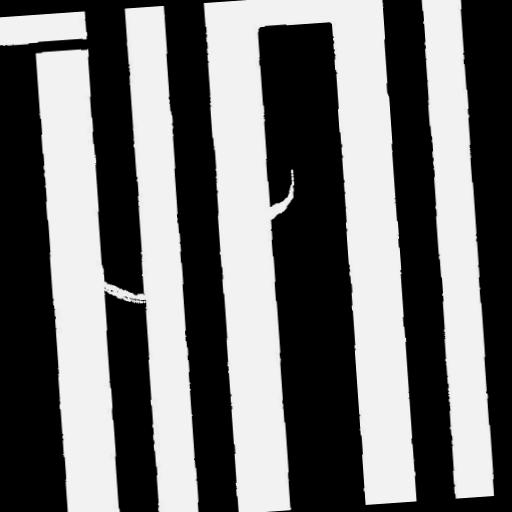mousebite: (253, 161, 304, 228)
open: (85, 270, 157, 314)
short: (17, 30, 99, 62)
